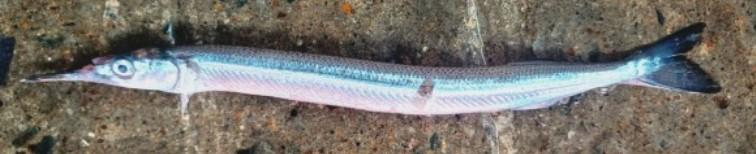fish: (26, 25, 724, 115)
